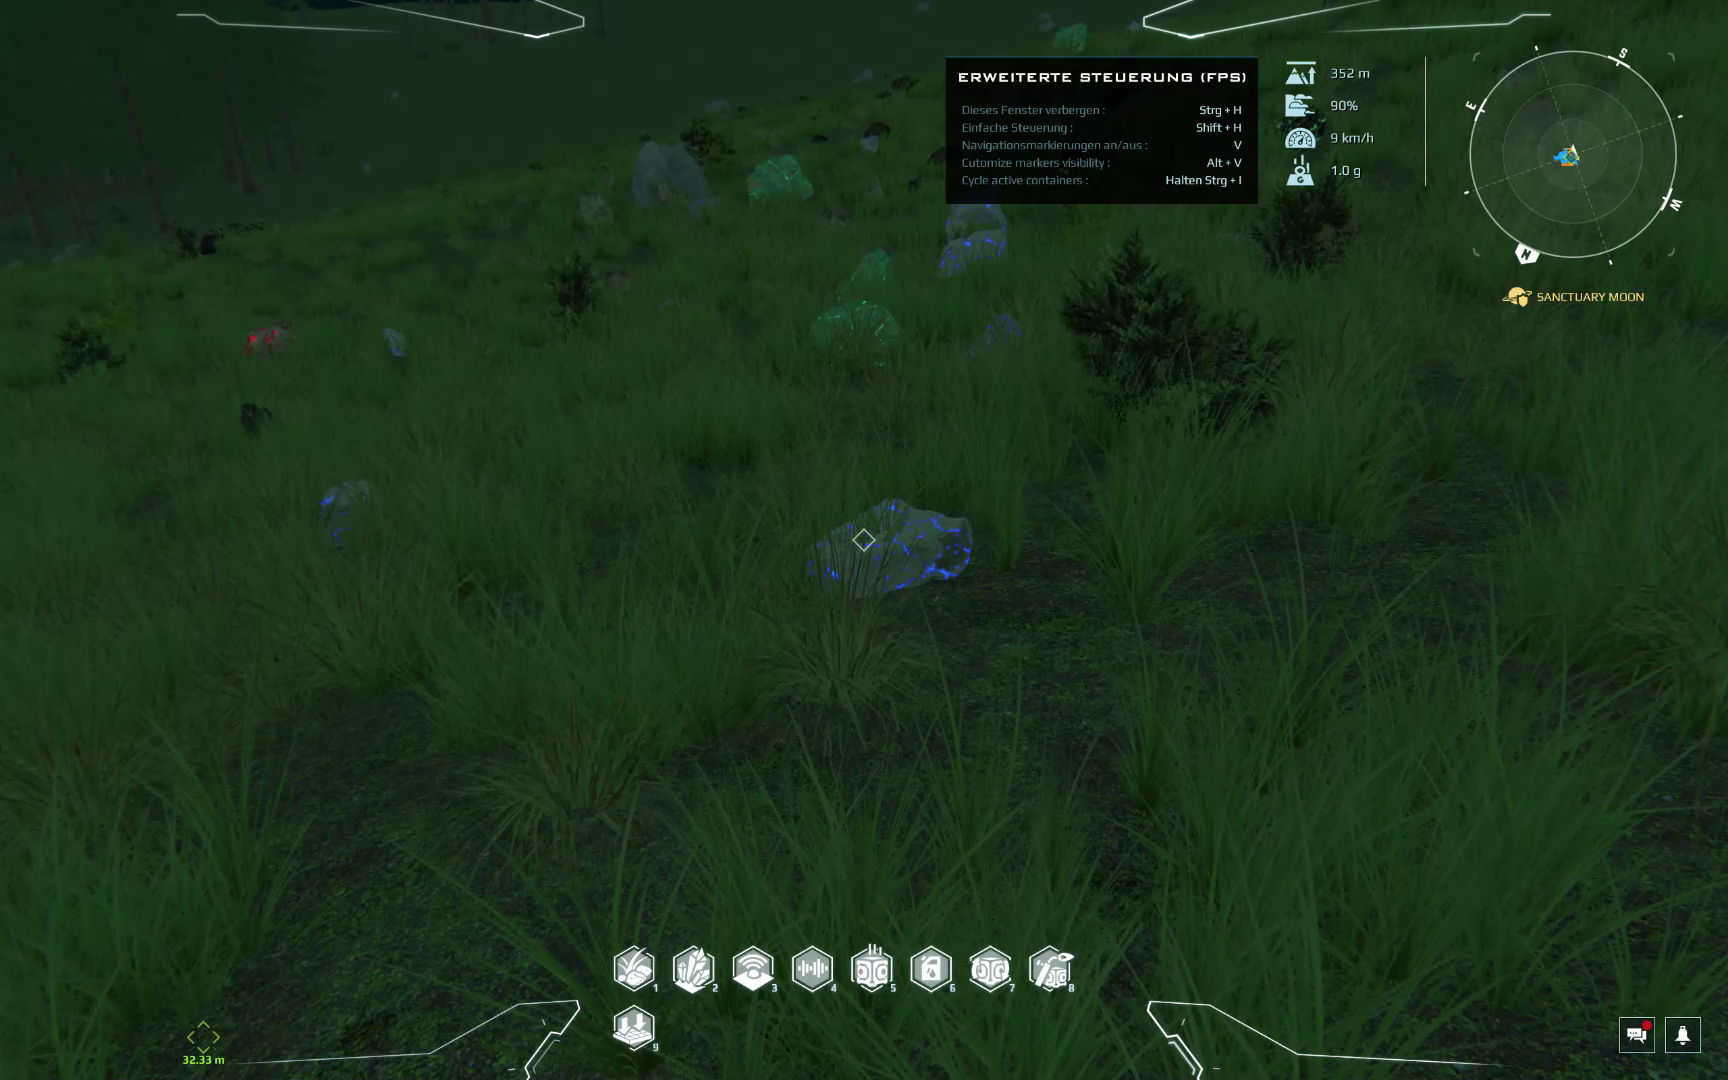Ore: (795, 485, 980, 601), (797, 297, 922, 393), (305, 477, 391, 564), (926, 207, 1021, 282), (949, 302, 1033, 378), (819, 240, 904, 304), (741, 151, 821, 209), (233, 315, 312, 372), (230, 392, 286, 450), (373, 315, 425, 376), (856, 113, 898, 146), (914, 139, 945, 177), (887, 68, 921, 100), (519, 157, 556, 179), (802, 124, 838, 146), (871, 91, 899, 106)
